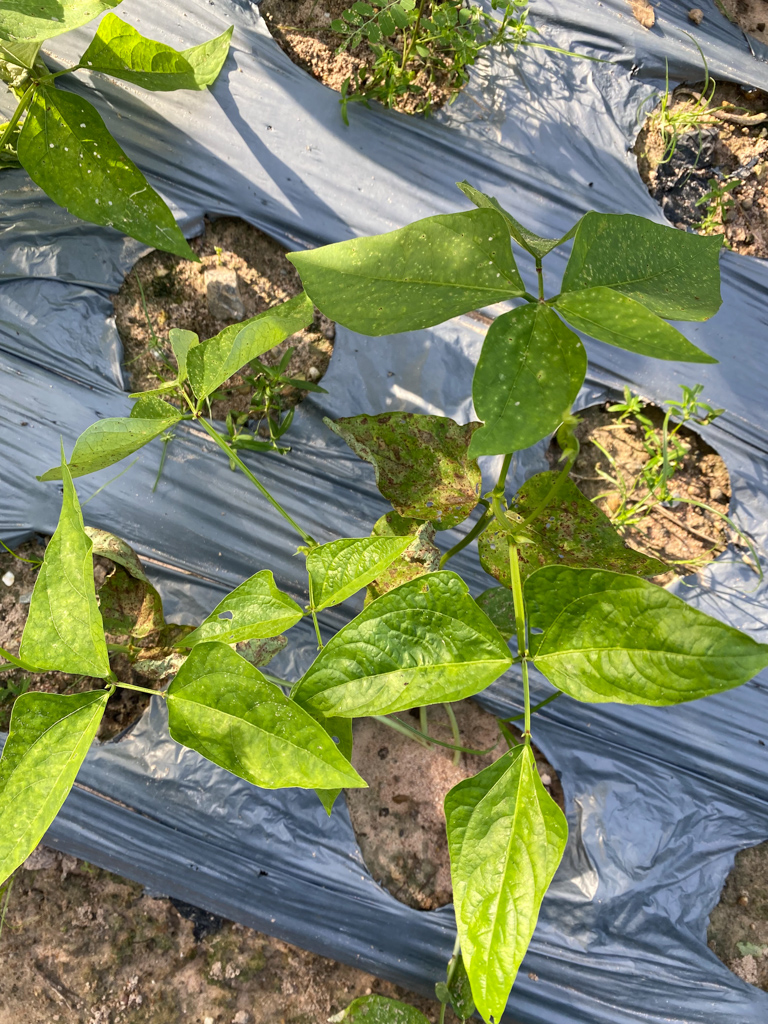Rust: (486, 476, 671, 589), (324, 409, 476, 527), (347, 224, 500, 320), (588, 218, 716, 311), (488, 316, 565, 433), (577, 292, 689, 357)
